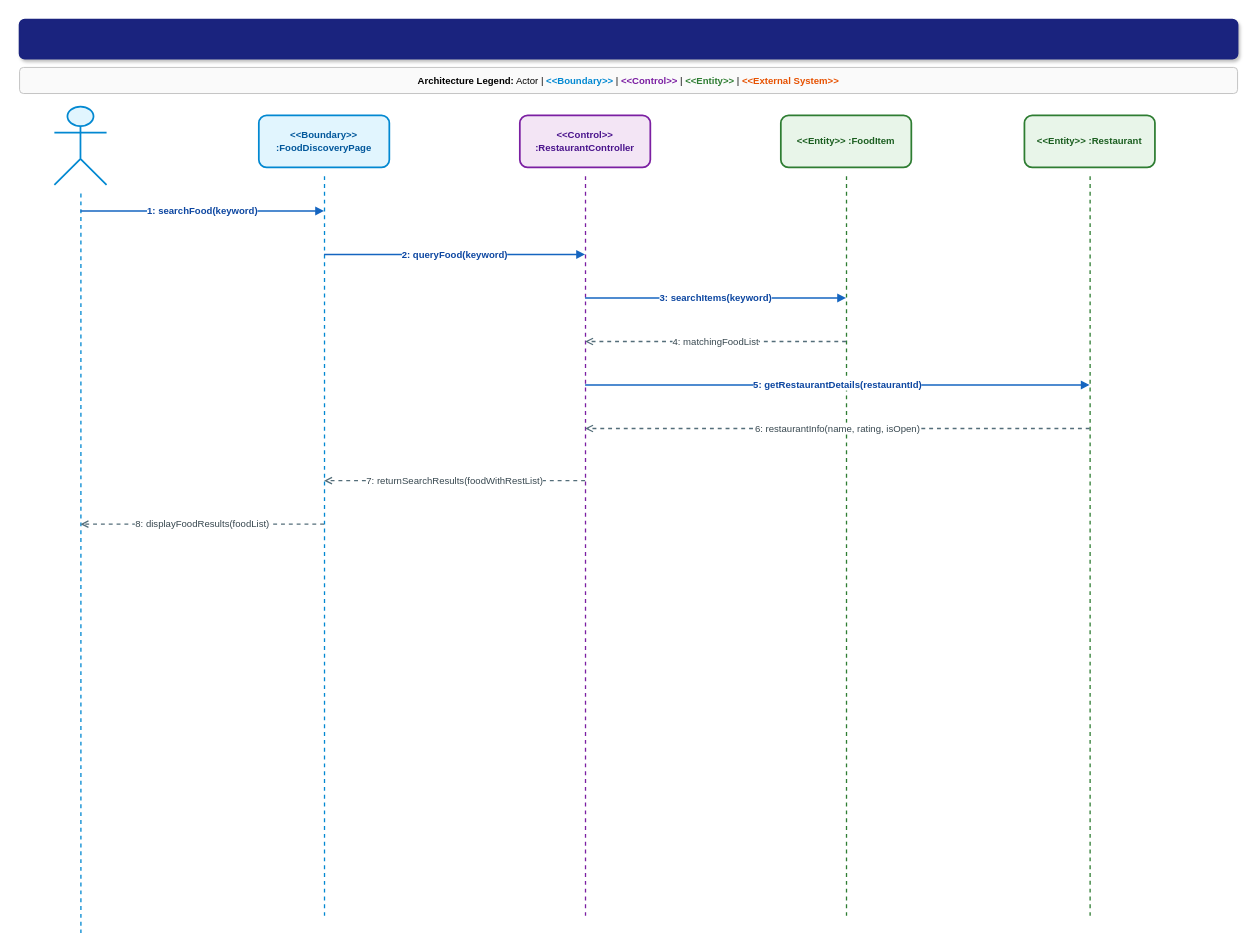
This 1258x948 diagram has some shape labels left out. Here are the shapes that lost their labels. From the top down, the centre of each, then its label:
At (x=629, y=40): "ONLINE FOOD ORDERING SYSTEM — BROWSE & SEARCH FOOD SEQUENCE DIAGRAM".
At (x=80, y=145): "Customer".
